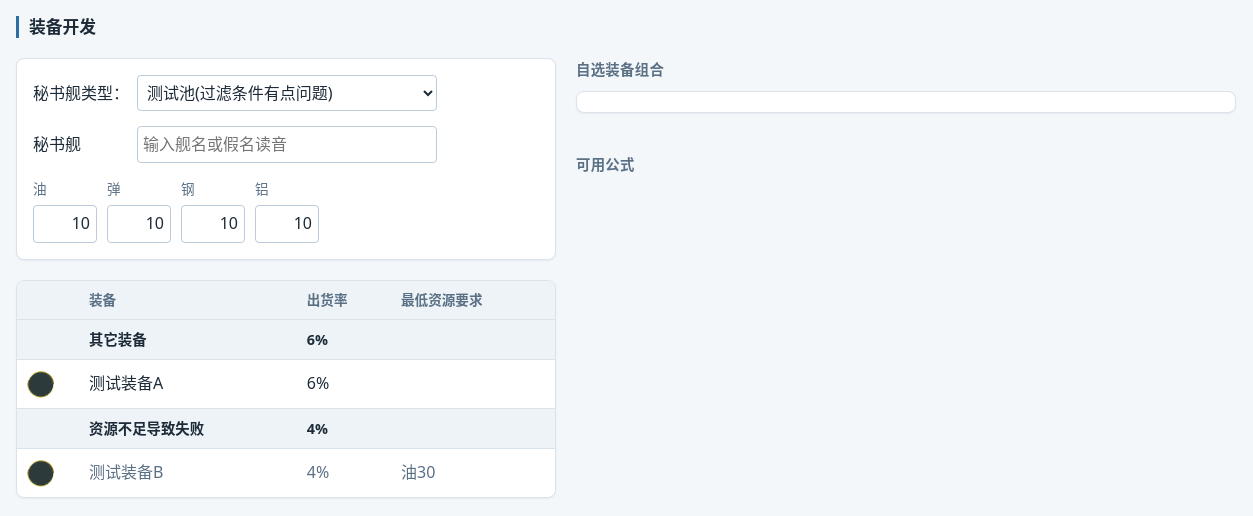
it: DevelopmentView — H1 rawResources/committedResources 拆分 › 正向对照：油改到 30（合法整数、落在[10,300]内）不失焦也应立即提交并重算——装备B变为可出货
Check: the number of rows with class "insufficient-equipment" is 1, box 17,448 -> 555,497
Replace the text in the field with id "fuel" with "30" at (65, 224), box 33,205 -> 97,243
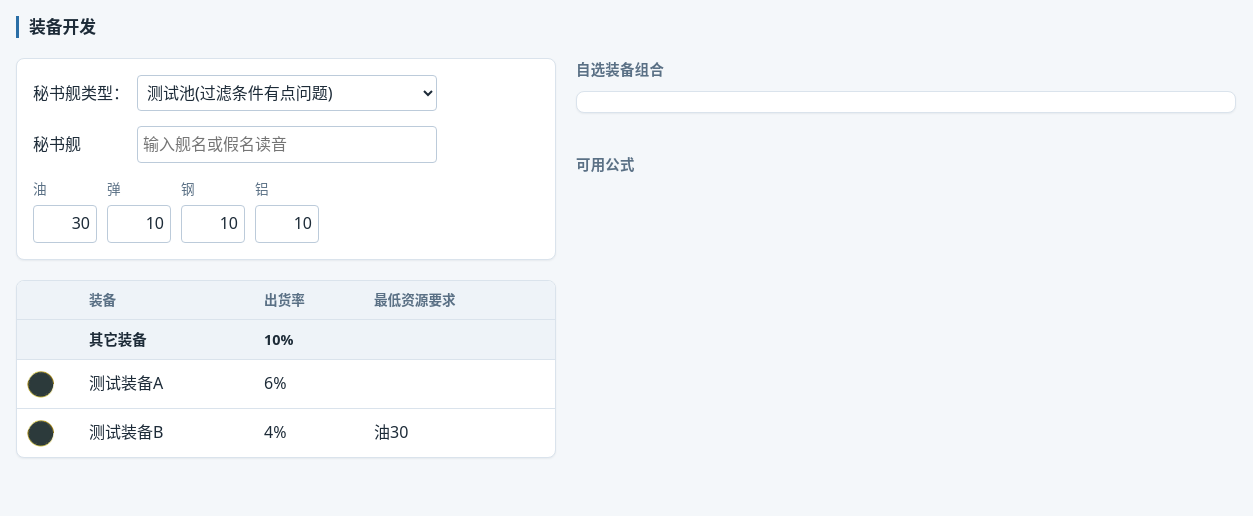
Check: no rows with class "insufficient-equipment" are shown
